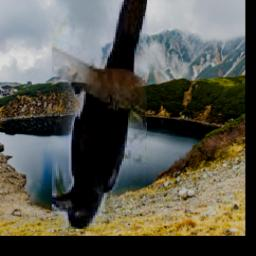Crow: (52, 0, 147, 230)
